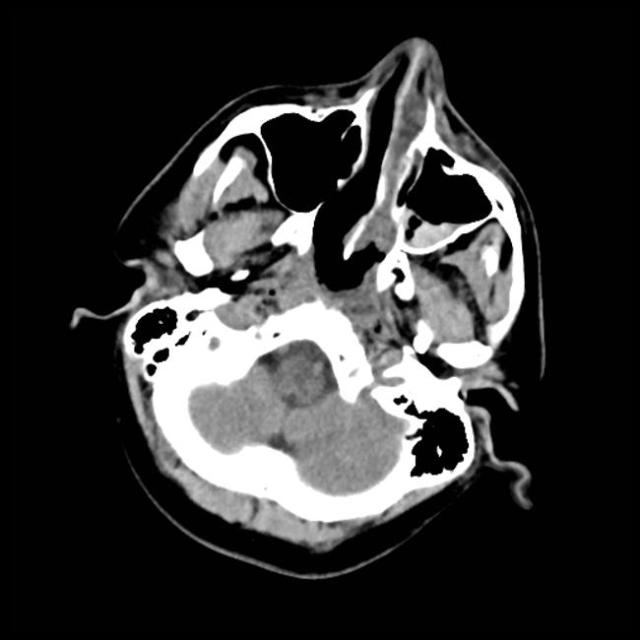lesion: (74, 36, 550, 572)
